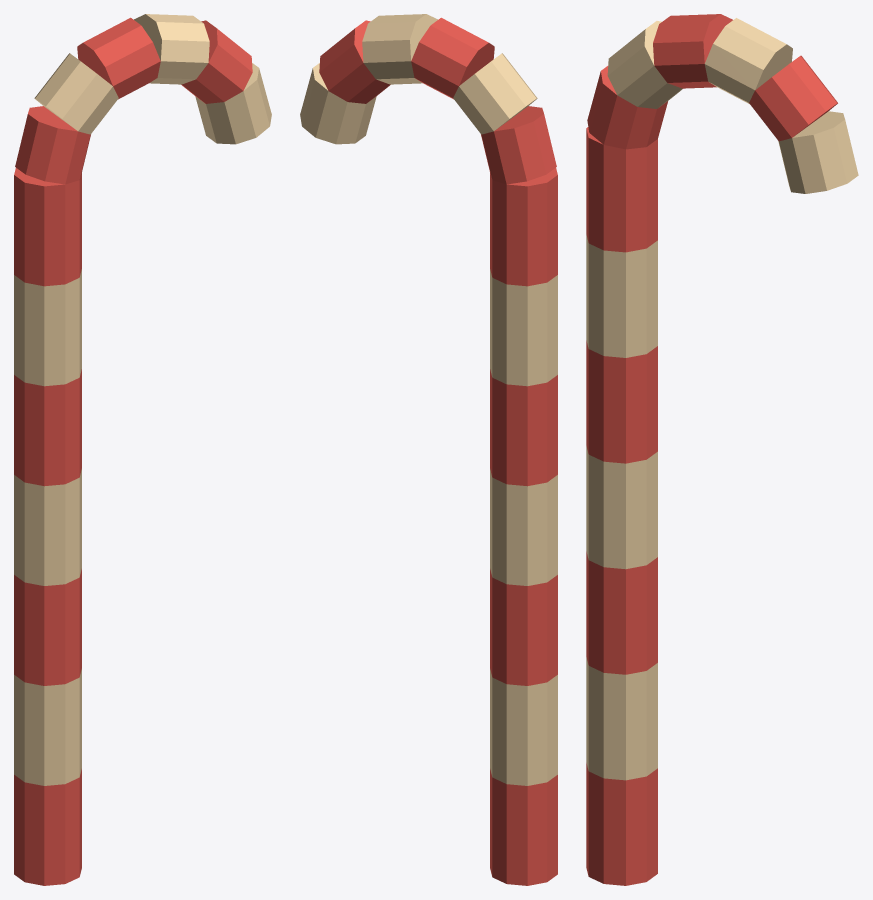
The model's file is ParkParkDecorCandyCane.obj.
The picture shows the model from 3 angles, left to right: view 1: azimuth 30°, elevation 25°; view 2: azimuth 150°, elevation 25°; view 3: azimuth 330°, elevation 25°; orthographic projection. The views are drawn at different scales.
Visible parts, largest first — view 1: ParkParkDecorCandyCane; view 2: ParkParkDecorCandyCane; view 3: ParkParkDecorCandyCane.
Boxes of the visible parts, x1,y1,x2,y2 form: ParkParkDecorCandyCane: (14, 14, 271, 885); ParkParkDecorCandyCane: (300, 14, 557, 885); ParkParkDecorCandyCane: (586, 14, 858, 885).
Size of the model in its own units: 1.81 by 5.8 by 0.44.
